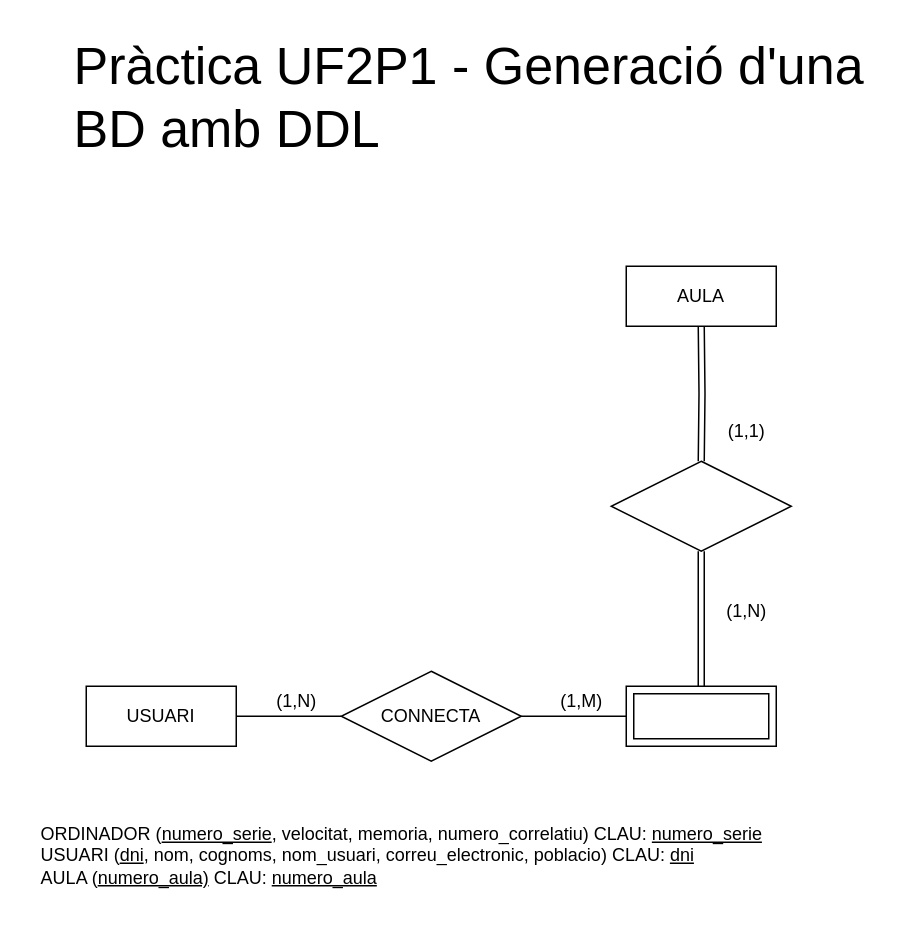
Some shapes in this 921 by 936 pixel diagram are drawn without their labels. Here are the shapes that lost their labels. From the top down, the centre of each, then its label:
At (700,505): "TROBA".
At (700,715): "ORDINADOR".
